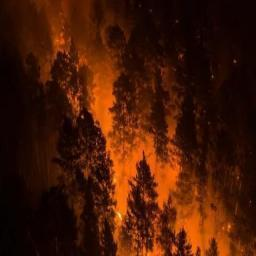Medium fire: (101, 117, 237, 253), (28, 7, 128, 112)
